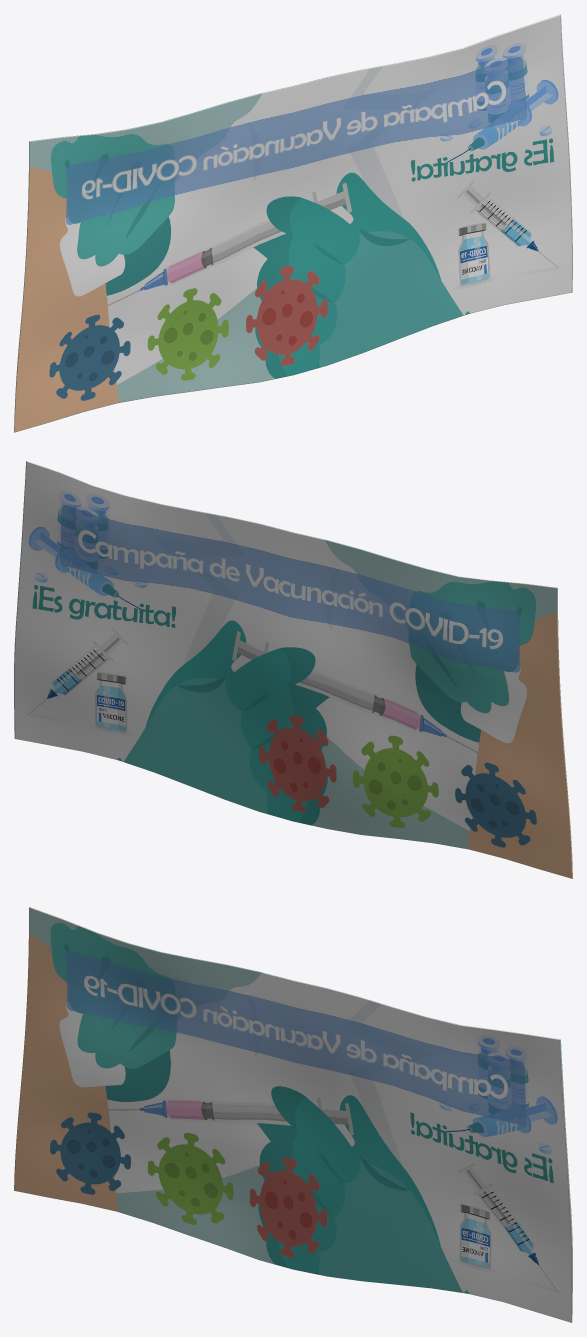
File: SignWall.obj
3 views of the same model, one above another, from view 1: azimuth 30°, elevation 25°; view 2: azimuth 150°, elevation 25°; view 3: azimuth 330°, elevation 25° (orthographic).
Parts seen in each view (by area): view 1: Plane; view 2: Plane; view 3: Plane.
Part boxes in pixels (left/top/right/bottom): Plane: left=14, top=14, right=572, bottom=432; Plane: left=14, top=461, right=572, bottom=878; Plane: left=14, top=907, right=572, bottom=1322.
Bounding box in the file's own units: 6.31 × 3.22 × 0.0858.
Materials: 1 (1 with a texture image).
